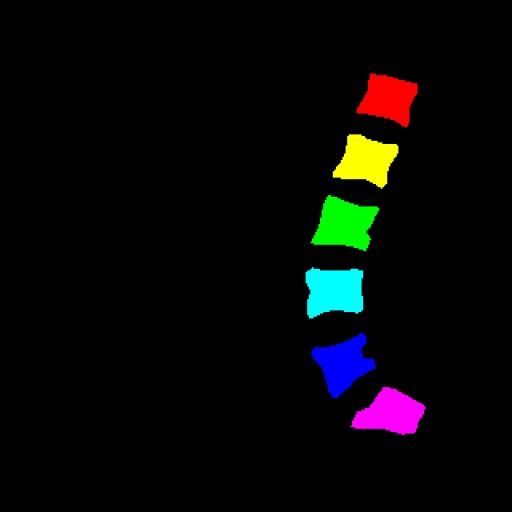L1: (357, 74, 417, 126)
L2: (333, 134, 398, 190)
L3: (311, 195, 379, 251)
L4: (306, 268, 363, 318)
L5: (311, 333, 376, 398)
S1: (351, 387, 425, 434)
